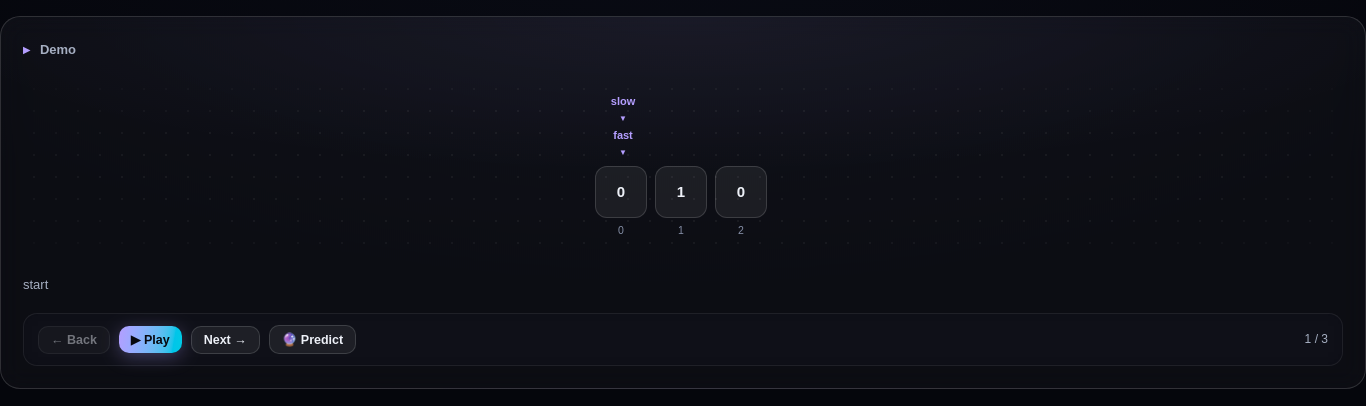
Test case: predict mode is opt-in › does not ask a question while predict mode is off
This screenshot has width=1366, height=406.
Step 1. Click the button "Next →" → click(225, 340), box [191,326,260,354]
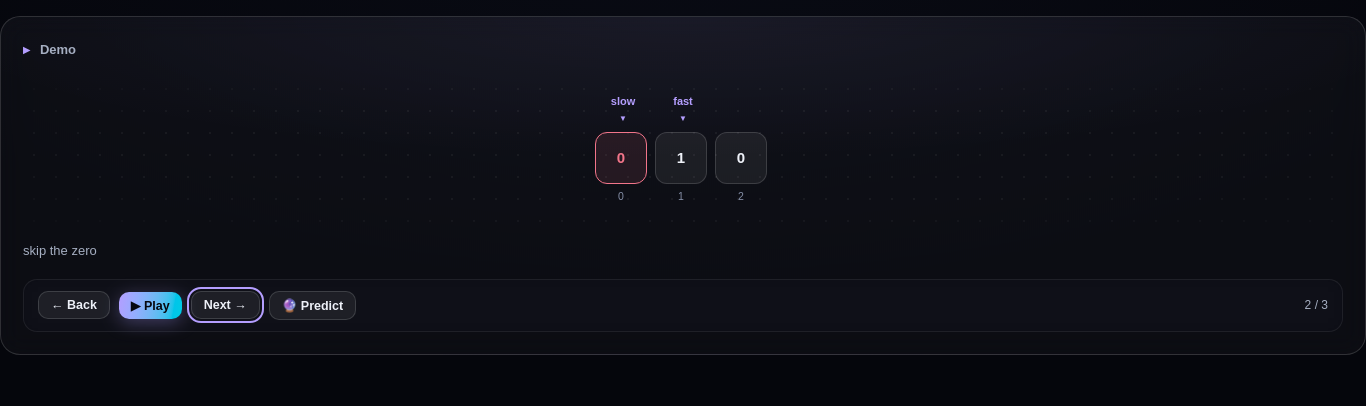
Check: the text "2 / 3" is shown, box [1305,295,1328,316]
